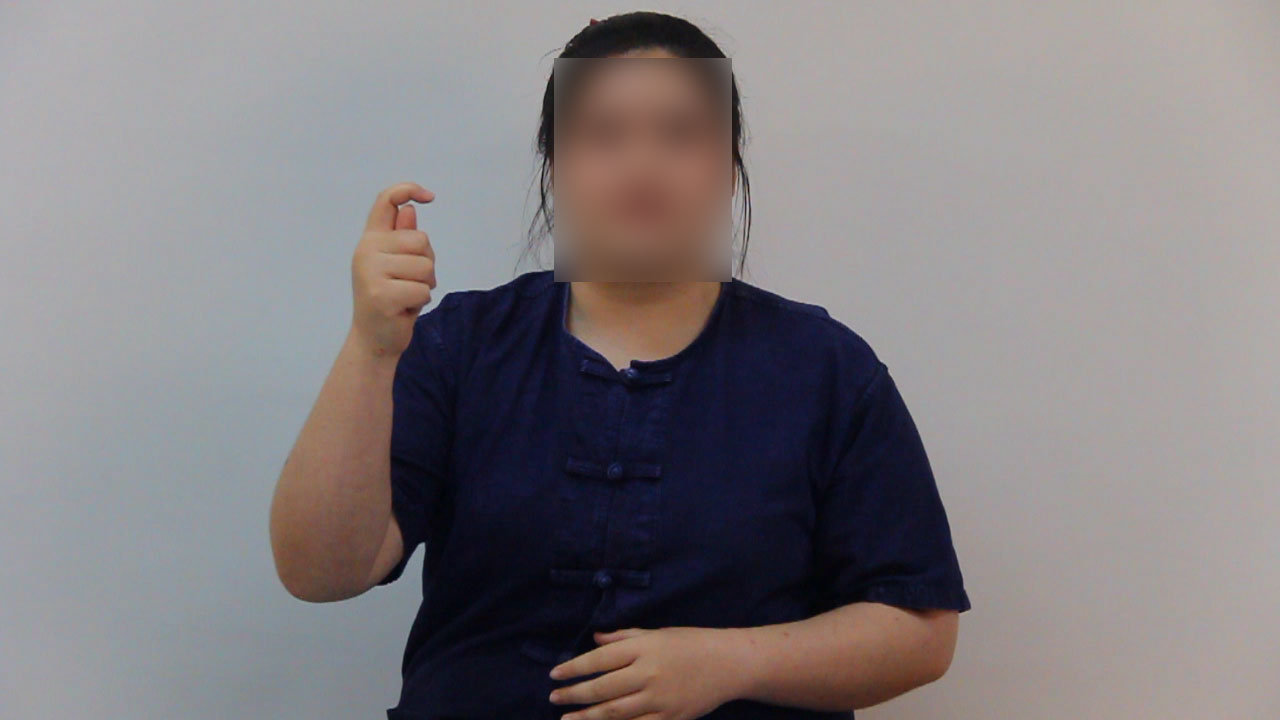or: (339, 177, 448, 379)
